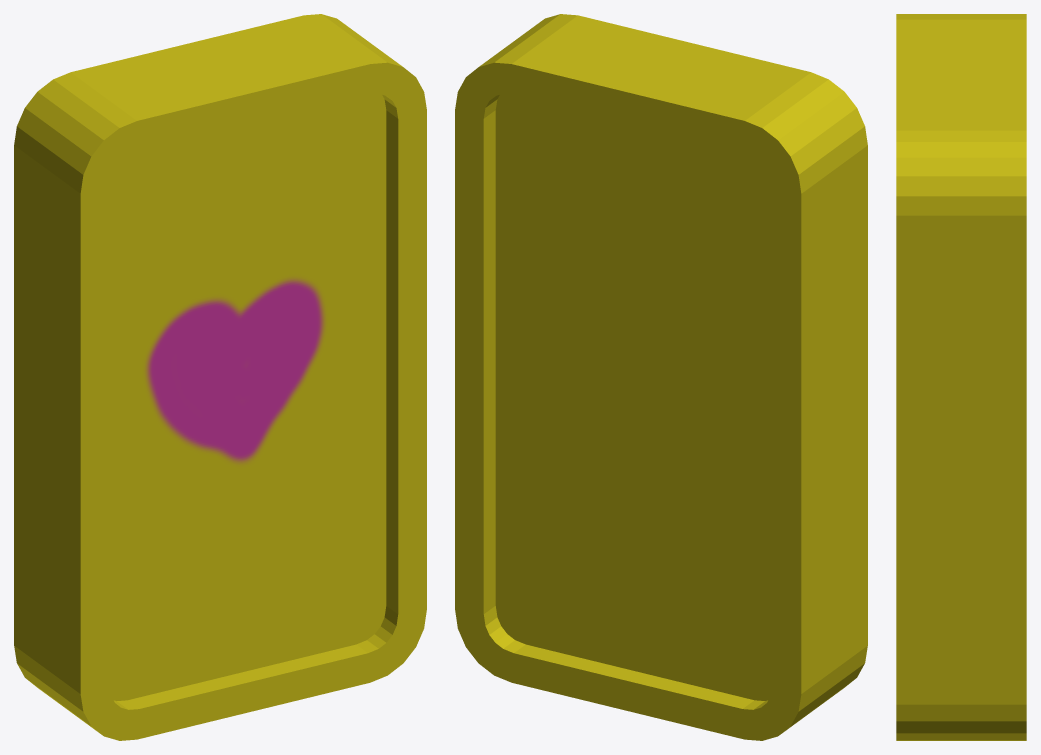
The model's file is domino.glb.
3 views of the same model, side by side, from view 1: azimuth 30°, elevation 25°; view 2: azimuth 150°, elevation 25°; view 3: azimuth 270°, elevation 25° (orthographic). The views are drawn at different scales.
Visible parts, largest first — view 1: Cube; view 2: Cube; view 3: Cube.
Part boxes in pixels (box(x1,y1,x2,y2)): Cube: box(14, 14, 426, 740); Cube: box(455, 14, 867, 740); Cube: box(896, 14, 1026, 740).
Size of the model in its own units: 0.5924 by 1.01 by 0.1972.
Materials: 1 (1 with a texture image).
